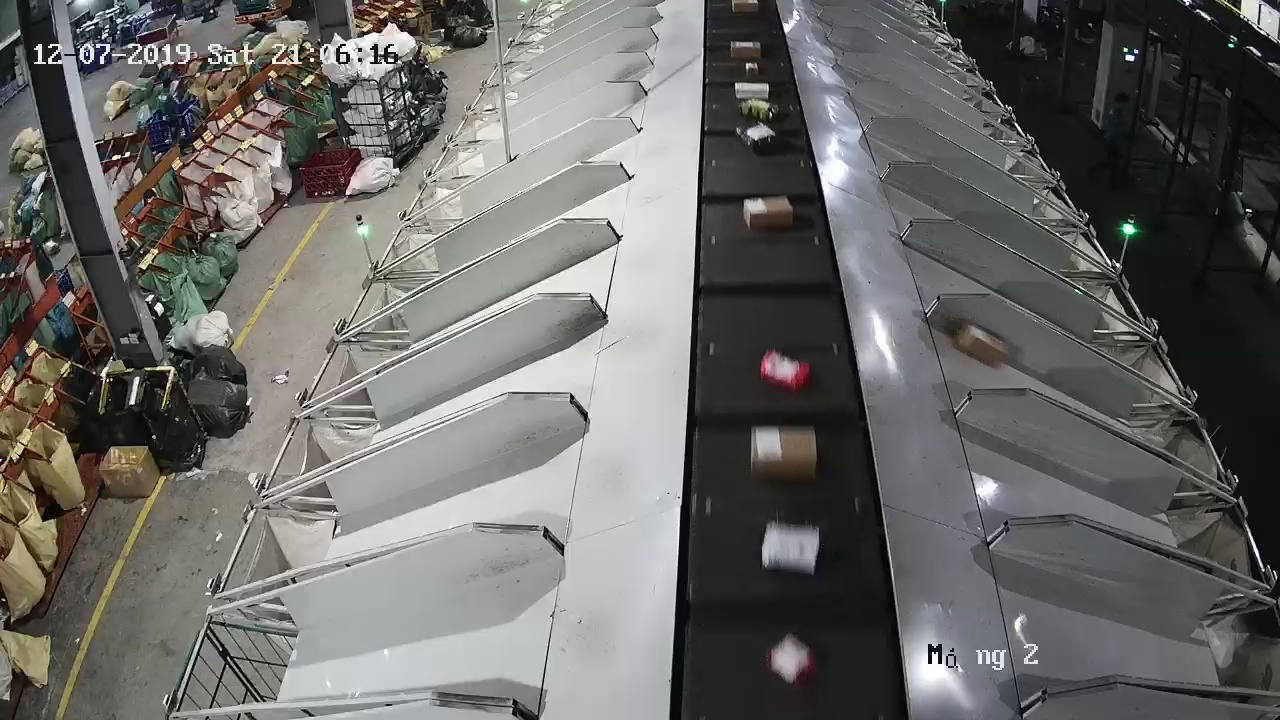parcel: (952, 321, 1009, 370)
